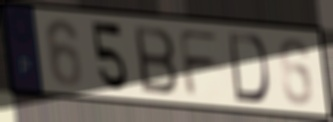5: (89, 19, 130, 93)
6: (43, 17, 83, 89), (277, 36, 314, 108)
B: (131, 23, 180, 97)
D: (226, 30, 271, 106)
F: (176, 28, 224, 99)
